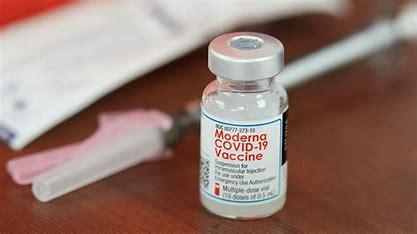Syringe: (192, 24, 300, 226)
